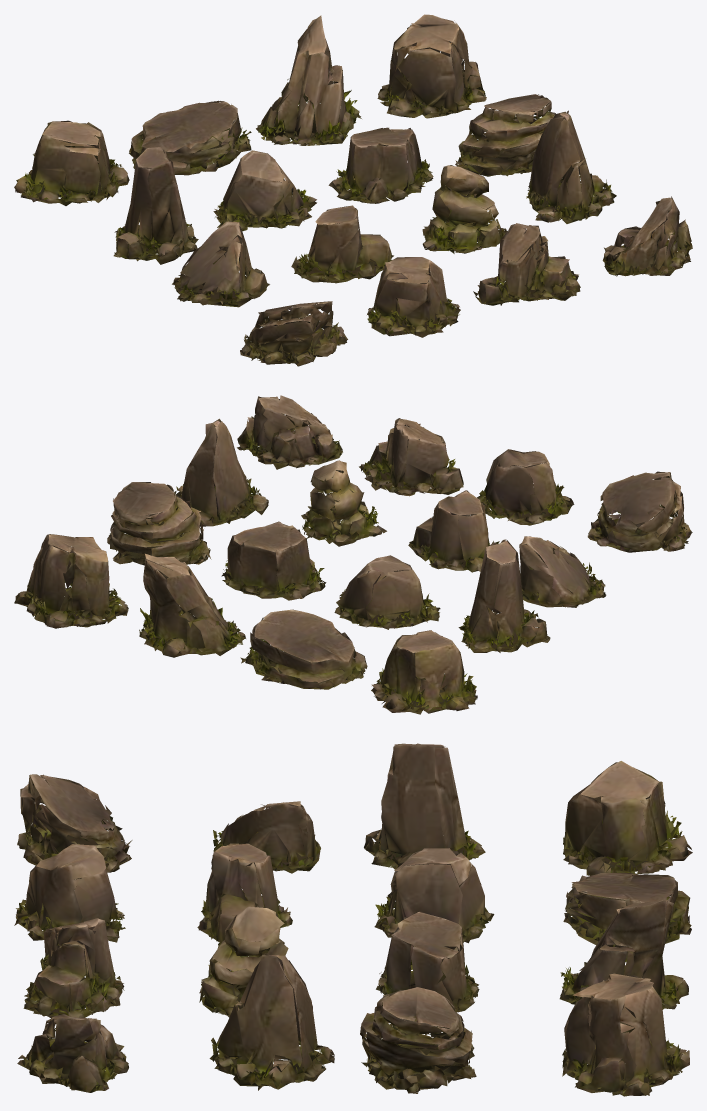
The model's file is Rock_Formations_Colle_2_town.glb.
3 views of the same model, one above another, from view 1: azimuth 30°, elevation 25°; view 2: azimuth 150°, elevation 25°; view 3: azimuth 270°, elevation 25° (orthographic). The views are drawn at different scales.
Visible parts, largest first — view 1: Rock_Formations_Colle_2; view 2: Rock_Formations_Colle_2; view 3: Rock_Formations_Colle_2.
Boxes of the visible parts, bbox=[...] form: Rock_Formations_Colle_2: bbox=[14, 14, 692, 366]; Rock_Formations_Colle_2: bbox=[14, 395, 692, 714]; Rock_Formations_Colle_2: bbox=[14, 743, 692, 1096].
Size of the model in its own units: 1.84 by 0.3631 by 1.89.
Materials: 1 (1 with a texture image).
